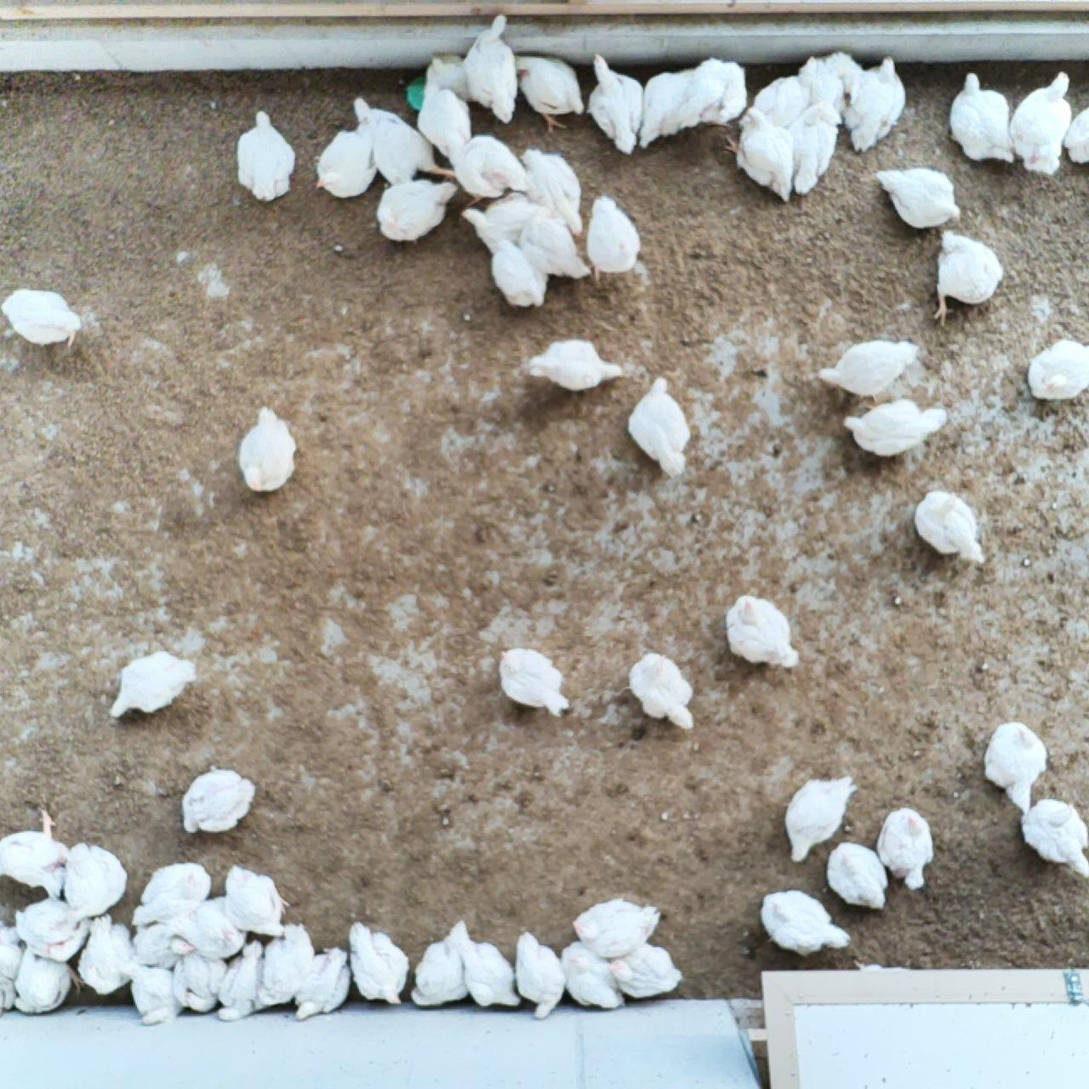chicken: (350, 93, 458, 187), (623, 374, 700, 485), (11, 892, 96, 992), (932, 228, 1011, 327), (946, 66, 1020, 171), (838, 395, 951, 462), (723, 103, 796, 206), (978, 718, 1053, 818), (782, 773, 860, 869), (460, 9, 523, 127), (1008, 69, 1077, 175), (0, 806, 72, 903), (107, 647, 201, 721), (754, 887, 853, 957), (844, 54, 911, 157), (816, 337, 923, 401), (508, 51, 587, 137), (445, 130, 531, 209), (519, 146, 589, 242), (722, 590, 802, 674), (624, 647, 701, 734), (567, 895, 665, 963), (584, 50, 644, 157), (913, 489, 992, 570), (1018, 792, 1089, 881), (523, 337, 628, 397), (235, 402, 301, 497), (129, 858, 215, 930), (872, 164, 965, 230), (234, 109, 298, 204), (516, 207, 591, 288), (60, 838, 131, 922), (496, 645, 574, 721), (372, 178, 460, 245), (446, 934, 523, 1010), (222, 861, 294, 942), (179, 764, 258, 837), (348, 917, 411, 1007), (786, 100, 844, 197), (582, 192, 644, 282), (458, 191, 551, 251), (822, 838, 893, 916), (166, 894, 248, 961), (256, 920, 317, 1010), (10, 943, 83, 1017), (874, 804, 936, 891), (76, 912, 138, 999), (0, 285, 84, 348), (559, 936, 627, 1013), (637, 66, 698, 151), (511, 926, 565, 1022), (488, 235, 553, 313), (684, 56, 752, 130), (314, 126, 379, 203), (606, 941, 686, 1003), (216, 939, 275, 1023), (414, 79, 475, 159), (408, 934, 472, 1010), (292, 945, 352, 1025), (1023, 336, 1089, 406), (736, 73, 812, 131), (122, 961, 186, 1027), (169, 948, 230, 1015), (800, 47, 858, 108), (130, 921, 192, 972), (424, 50, 473, 105), (1060, 100, 1089, 169), (0, 917, 27, 987)
